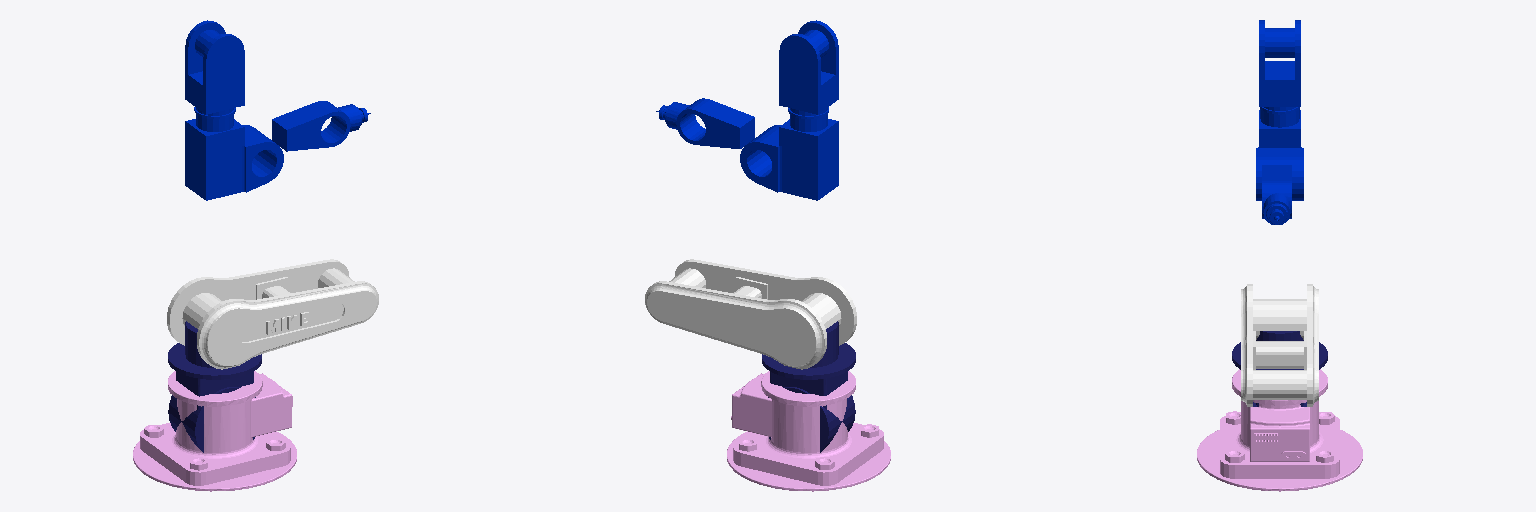
robot.urdf — robotAssem3.SLDASM:
<?xml version="1.0" encoding="utf-8"?>
<!-- This URDF was automatically created by SolidWorks to URDF Exporter! Originally created by Stephen Brawner (brawner@gmail.com) 
     Commit Version: 1.6.0-4-g7f85cfe  Build Version: 1.6.7995.38578
     For more information, please see http://wiki.ros.org/sw_urdf_exporter -->
<robot
  name="robotAssem3.SLDASM">
  <link
    name="base_link">
    <inertial>
      <origin
        xyz="0.031662 -1.6593E-05 0.093316"
        rpy="0 0 0" />
      <mass
        value="20.485" />
      <inertia
        ixx="0.34723"
        ixy="7.3552E-05"
        ixz="-0.042273"
        iyy="0.43484"
        iyz="6.6575E-05"
        izz="0.51047" />
    </inertial>
    <visual>
      <origin
        xyz="0 0 0"
        rpy="0 0 0" />
      <geometry>
        <mesh
          filename="package://robotAssem3.SLDASM/meshes/base_link.STL" />
      </geometry>
      <material
        name="">
        <color
          rgba="1 0.75294 1 1" />
      </material>
    </visual>
    <collision>
      <origin
        xyz="0 0 0"
        rpy="0 0 0" />
      <geometry>
        <mesh
          filename="package://robotAssem3.SLDASM/meshes/base_link.STL" />
      </geometry>
    </collision>
  </link>
  <link
    name="link_1">
    <inertial>
      <origin
        xyz="-1.5626E-10 -0.12292 2.9318E-17"
        rpy="0 0 0" />
      <mass
        value="14.805" />
      <inertia
        ixx="0.28701"
        ixy="-1.2939E-09"
        ixz="1.283E-09"
        iyy="0.11168"
        iyz="-7.9543E-18"
        izz="0.31422" />
    </inertial>
    <visual>
      <origin
        xyz="0 0 0"
        rpy="0 0 0" />
      <geometry>
        <mesh
          filename="package://robotAssem3.SLDASM/meshes/link_1.STL" />
      </geometry>
      <material
        name="">
        <color
          rgba="0.16078 0.16863 0.45098 0.4" />
      </material>
    </visual>
    <collision>
      <origin
        xyz="0 0 0"
        rpy="0 0 0" />
      <geometry>
        <mesh
          filename="package://robotAssem3.SLDASM/meshes/link_1.STL" />
      </geometry>
    </collision>
  </link>
  <joint
    name="joint_1"
    type="revolute">
    <origin
      xyz="0 0 0.496"
      rpy="1.5708 0 0" />
    <parent
      link="base_link" />
    <child
      link="link_1" />
    <axis
      xyz="0 1 0" />
    <limit
      lower="-3.14"
      upper="3.14"
      effort="96.8"
      velocity="3" />
  </joint>
  <link
    name="link_2">
    <inertial>
      <origin
        xyz="-0.18788 1.414E-05 -0.0021187"
        rpy="0 0 0" />
      <mass
        value="14.929" />
      <inertia
        ixx="0.15396"
        ixy="8.6361E-06"
        ixz="-0.0012193"
        iyy="0.7156"
        iyz="-2.6881E-05"
        izz="0.62367" />
    </inertial>
    <visual>
      <origin
        xyz="0 0 0"
        rpy="0 0 0" />
      <geometry>
        <mesh
          filename="package://robotAssem3.SLDASM/meshes/link_2.STL" />
      </geometry>
      <material
        name="">
        <color
          rgba="1 1 1 0.9" />
      </material>
    </visual>
    <collision>
      <origin
        xyz="0 0 0"
        rpy="0 0 0" />
      <geometry>
        <mesh
          filename="package://robotAssem3.SLDASM/meshes/link_2.STL" />
      </geometry>
    </collision>
  </link>
  <joint
    name="joint_2"
    type="revolute">
    <origin
      xyz="0 0 0"
      rpy="0 0 -1.5708" />
    <parent
      link="link_1" />
    <child
      link="link_2" />
    <axis
      xyz="0 0 1" />
    <limit
      lower="-1.57"
      upper="1.57"
      effort="66.4"
      velocity="3.5" />
  </joint>
  <link
    name="link_3">
    <inertial>
      <origin
        xyz="0.12117 -0.13618 0.01"
        rpy="0 0 0" />
      <mass
        value="12.293" />
      <inertia
        ixx="0.34515"
        ixy="0.040693"
        ixz="-2.1348E-17"
        iyy="0.076693"
        iyz="1.7724E-16"
        izz="0.37813" />
    </inertial>
    <visual>
      <origin
        xyz="0 0 0"
        rpy="0 0 0" />
      <geometry>
        <mesh
          filename="package://robotAssem3.SLDASM/meshes/link_3.STL" />
      </geometry>
      <material
        name="">
        <color
          rgba="0.0078431 0.23922 0.82353 1" />
      </material>
    </visual>
    <collision>
      <origin
        xyz="0 0 0"
        rpy="0 0 0" />
      <geometry>
        <mesh
          filename="package://robotAssem3.SLDASM/meshes/link_3.STL" />
      </geometry>
    </collision>
  </link>
  <joint
    name="joint_3"
    type="revolute">
    <origin
      xyz="-0.5 0 0"
      rpy="0 0 3.1416" />
    <parent
      link="link_2" />
    <child
      link="link_3" />
    <axis
      xyz="0 0 1" />
    <limit
      lower="-0.7854"
      upper="2.3562"
      effort="44.8"
      velocity="4" />
  </joint>
  <link
    name="link_4">
    <inertial>
      <origin
        xyz="7.1522E-05 0.04925 6.1596E-08"
        rpy="0 0 0" />
      <mass
        value="2.2635" />
      <inertia
        ixx="0.019962"
        ixy="-2.3083E-05"
        ixz="-3.7933E-09"
        iyy="0.0040787"
        iyz="6.4088E-09"
        izz="0.020598" />
    </inertial>
    <visual>
      <origin
        xyz="0 0 0"
        rpy="0 0 0" />
      <geometry>
        <mesh
          filename="package://robotAssem3.SLDASM/meshes/link_4.STL" />
      </geometry>
      <material
        name="">
        <color
          rgba="0.0078431 0.23922 0.82353 1" />
      </material>
    </visual>
    <collision>
      <origin
        xyz="0 0 0"
        rpy="0 0 0" />
      <geometry>
        <mesh
          filename="package://robotAssem3.SLDASM/meshes/link_4.STL" />
      </geometry>
    </collision>
  </link>
  <joint
    name="joint_4"
    type="revolute">
    <origin
      xyz="0.145 -0.42746 0.01"
      rpy="0 0 0" />
    <parent
      link="link_3" />
    <child
      link="link_4" />
    <axis
      xyz="0 0 1" />
    <limit
      lower="-1.57"
      upper="1.57"
      effort="17.6"
      velocity="5" />
  </joint>
</robot>

--- Render facts (derived) ---
Views: 3 orthographic renders of the robot side by side, from view 1: azimuth 30°, elevation 25°; view 2: azimuth 150°, elevation 25°; view 3: azimuth 270°, elevation 25°.
Robot: robotAssem3.SLDASM — 5 links, 4 joints (4 revolute); root link base_link; default pose: all joints at 0.
Links seen in each view (by area): view 1: link_2, base_link, link_3, link_1, link_4; view 2: link_2, base_link, link_3, link_1, link_4; view 3: base_link, link_2, link_3, link_4, link_1.
Boxes of the visible links, bbox=[...] form: link_2: bbox=[167, 259, 378, 369]; base_link: bbox=[133, 371, 296, 491]; link_3: bbox=[185, 20, 283, 200]; link_1: bbox=[168, 321, 261, 452]; link_4: bbox=[272, 101, 370, 151]; link_2: bbox=[645, 259, 856, 369]; base_link: bbox=[727, 371, 890, 491]; link_3: bbox=[740, 20, 838, 200]; link_1: bbox=[762, 321, 855, 452]; link_4: bbox=[656, 98, 754, 148]; base_link: bbox=[1197, 369, 1362, 491]; link_2: bbox=[1241, 284, 1318, 406]; link_3: bbox=[1256, 20, 1303, 200]; link_4: bbox=[1262, 165, 1291, 224]; link_1: bbox=[1232, 331, 1327, 406].
Bounding box of the posed robot: 0.8802 × 0.555 × 1.59 m (x, y, z).
Meshes: 5 distinct files referenced, 5 mesh visuals loaded (5 binary STL).
